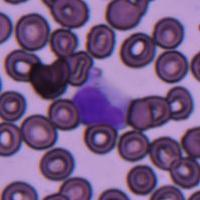M: (71, 78, 129, 126)
